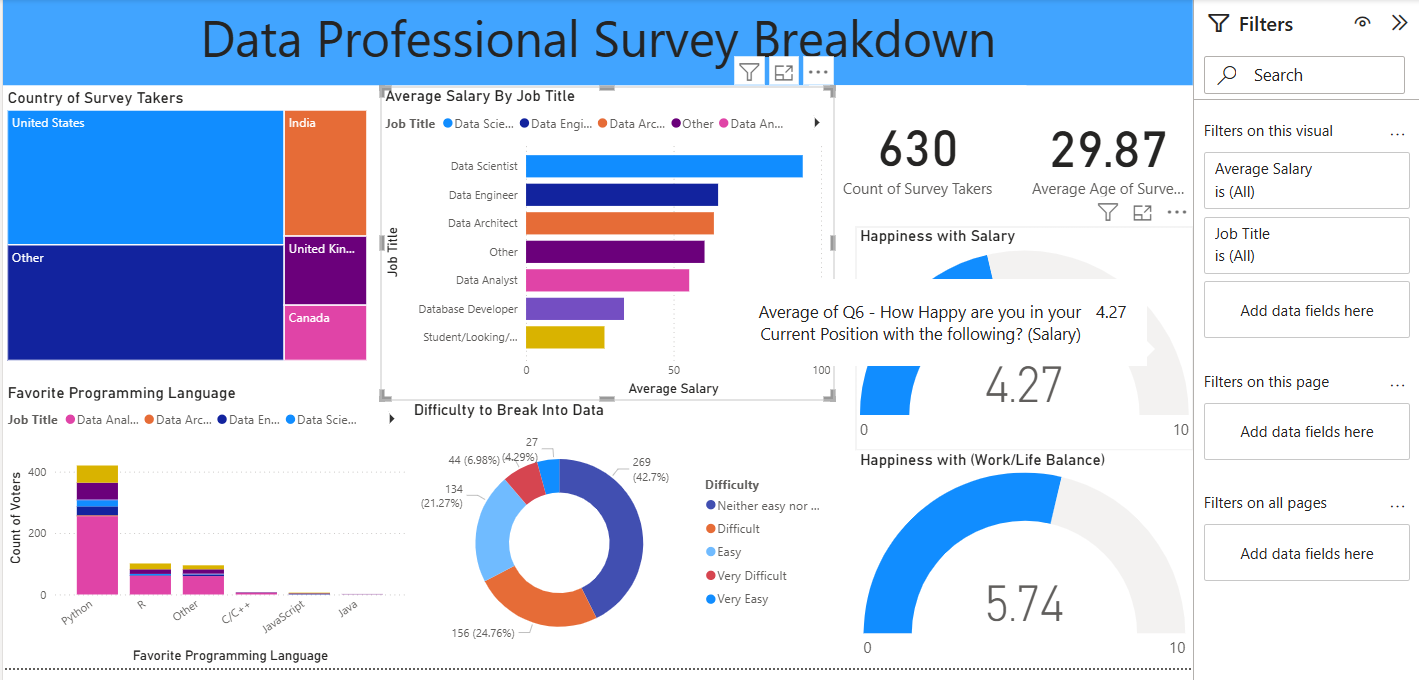

The page's visual inventory and layout, read from the dashboard file:
{"tool":"powerbi","page":{"name":"Page 1","canvas":[1280,720],"ordinal":0},"visuals":[{"type":"textbox","box":[10,0,280,280],"z":0},{"type":"textbox","box":[10,290,280,280],"z":1000},{"type":"textbox","box":[0,0,1280.3,93.2],"z":2000},{"type":"card","fields":{"Values":["CountNonNull(Data Professional Survey.Unique ID)"]},"box":[867,92.9,233.8,144],"z":3000},{"type":"card","fields":{"Values":["Avg(Data Professional Survey.Q10 - Current Age)"]},"box":[1099.2,94.4,181.1,142.4],"z":4000},{"type":"barChart","title":"Average Salary By Job Title","fields":{"Category":["Data Professional Survey.Q1 - Which Title Best Fits your Current Role?.1"],"Y":["Avg(Data Professional Survey.Average Salary)"],"Series":["Data Professional Survey.Q1 - Which Title Best Fits your Current Role?.1"]},"box":[405.6,94.4,489.2,337.5],"z":5000},{"type":"columnChart","title":"Favorite Programming Language ","fields":{"Category":["Data Professional Survey.Q5 - Favorite Programming Language.1"],"Y":["CountNonNull(Data Professional Survey.Unique ID)"],"Series":["Data Professional Survey.Q1 - Which Title Best Fits your Current Role?.1"]},"box":[0,413.4,438.1,306.5],"z":6000},{"type":"treemap","title":"Country of Survey Takers","fields":{"Group":["Data Professional Survey.Q11 - Which Country do you live in?.1"],"Values":["CountNonNull(Data Professional Survey.Q11 - Which Country do you live in?.1)"]},"box":[0,94.4,393.2,301.9],"z":7000},{"type":"gauge","title":"Happiness with Salary","fields":{"Y":["Avg(Data Professional Survey.Q6 - How Happy are you in your Current Position with the following? (Salary))"],"MinValue":["Min(Data Professional Survey.Q6 - How Happy are you in your Current Position with the following? (Salary))"],"MaxValue":["Max(Data Professional Survey.Q6 - How Happy are you in your Current Position with the following? (Salary))1"]},"box":[916.5,244.6,363.8,241.5],"z":8000},{"type":"gauge","title":"Happiness with (Work/Life Balance)","fields":{"Y":["Avg(Data Professional Survey.Q6 - How Happy are you in your Current Position with the following? (Work/Life Balance))"],"MinValue":["Min(Data Professional Survey.Q6 - How Happy are you in your Current Position with the following? (Work/Life Balance))"],"MaxValue":["Max(Data Professional Survey.Q6 - How Happy are you in your Current Position with the following? (Work/Life Balance))1"]},"box":[916.5,486.1,363.8,233.8],"z":9000},{"type":"donutChart","title":"Difficulty to Break Into Data","fields":{"Y":["CountNonNull(Data Professional Survey.Q7 - How difficult was it for you to break into Data?)"],"Series":["Data Professional Survey.Q7 - How difficult was it for you to break into Data?"],"Category":["Data Professional Survey.Q7 - How difficult was it for you to break into Data?"]},"box":[438.1,413.4,478.4,306.5],"z":10000}]}

Visuals, with their boxes on the page's 1280x720 design canvas (x1, y1, x2, y2). These are canvas units, not pixel positions in the 1419x680 screenshot, which may show the page scaled, cropped or inside an application window:
textbox: pyautogui.locateOnScreen(10, 0, 290, 280)
textbox: pyautogui.locateOnScreen(10, 290, 290, 570)
textbox: pyautogui.locateOnScreen(0, 0, 1280, 93)
card - CountNonNull(Data Professional Survey.Unique ID): pyautogui.locateOnScreen(867, 93, 1101, 237)
card - Avg(Data Professional Survey.Q10 - Current Age): pyautogui.locateOnScreen(1099, 94, 1280, 237)
"Average Salary By Job Title" barChart: pyautogui.locateOnScreen(406, 94, 895, 432)
"Favorite Programming Language " columnChart: pyautogui.locateOnScreen(0, 413, 438, 720)
"Country of Survey Takers" treemap: pyautogui.locateOnScreen(0, 94, 393, 396)
"Happiness with Salary" gauge: pyautogui.locateOnScreen(916, 245, 1280, 486)
"Happiness with (Work/Life Balance)" gauge: pyautogui.locateOnScreen(916, 486, 1280, 720)
"Difficulty to Break Into Data" donutChart: pyautogui.locateOnScreen(438, 413, 916, 720)
